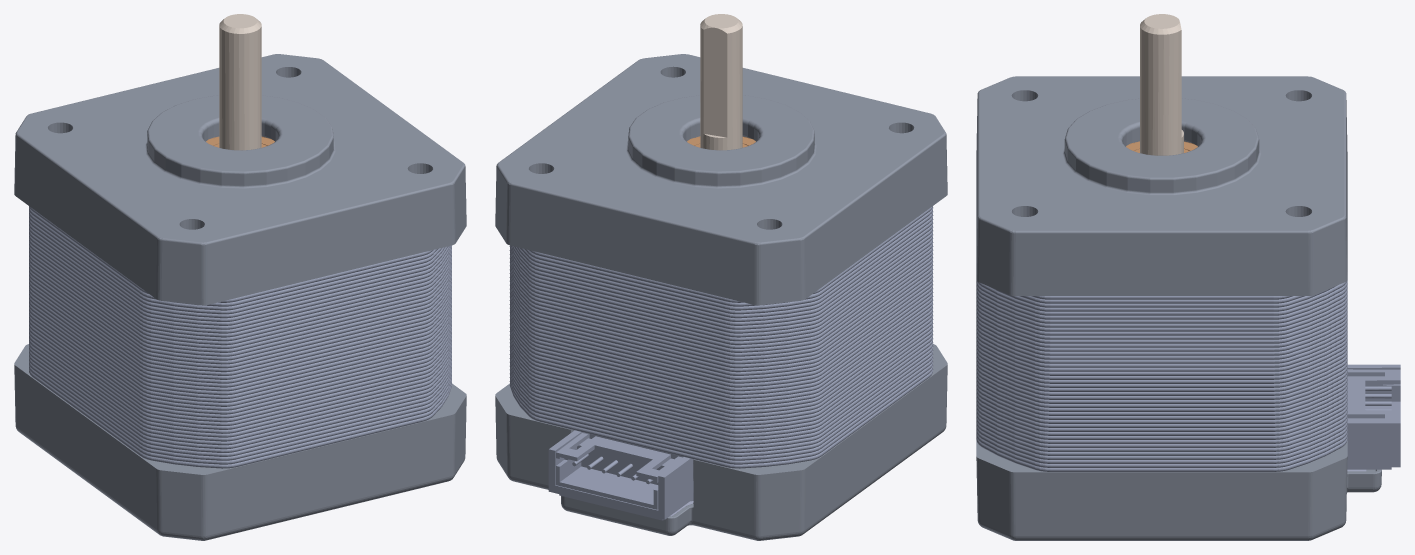
Rendered from stepper.glb.
The picture shows the model from 3 angles, left to right: view 1: azimuth 30°, elevation 25°; view 2: azimuth 150°, elevation 25°; view 3: azimuth 270°, elevation 25°; orthographic projection. The views are drawn at different scales.
Visible parts, largest first — view 1: Top_cap, Stator, Bottom_cap, Rotor; view 2: Stator, Top_cap, Bottom_cap, Rotor; view 3: Top_cap, Stator, Bottom_cap, Rotor.
Part boxes in pixels (box(x1,y1,x2,y2)): Top_cap: box(14, 54, 466, 305); Stator: box(29, 206, 451, 468); Bottom_cap: box(14, 344, 466, 540); Rotor: box(219, 14, 261, 150); Stator: box(509, 206, 933, 520); Top_cap: box(495, 54, 947, 305); Bottom_cap: box(495, 344, 947, 540); Rotor: box(700, 14, 742, 150); Top_cap: box(976, 76, 1347, 295); Stator: box(976, 280, 1400, 471); Bottom_cap: box(976, 440, 1381, 540); Rotor: box(1140, 14, 1183, 155).
Bounding box in the file's own units: 0.042 × 0.0555 × 0.048.
